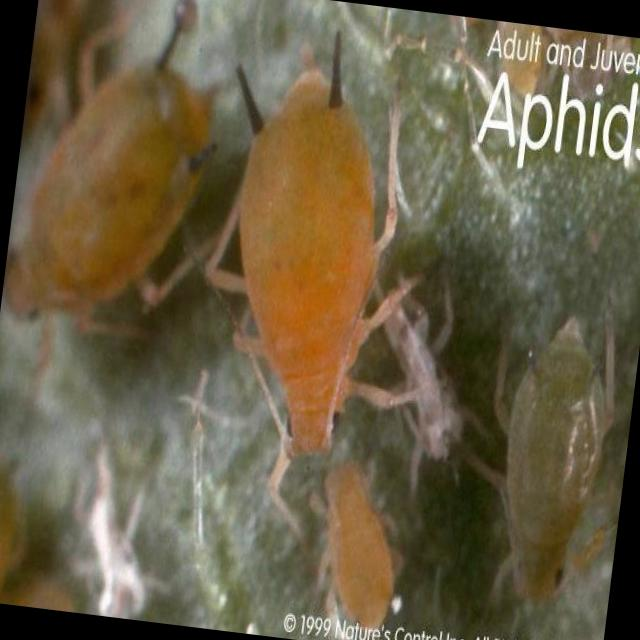aphid: (185, 32, 462, 506), (0, 42, 220, 363), (460, 318, 623, 624), (275, 455, 429, 640)
